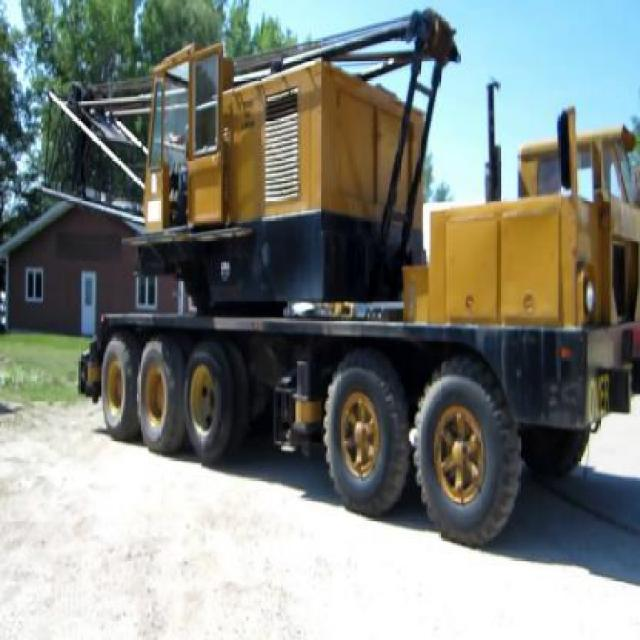Mobile Crane: (78, 13, 639, 544)
